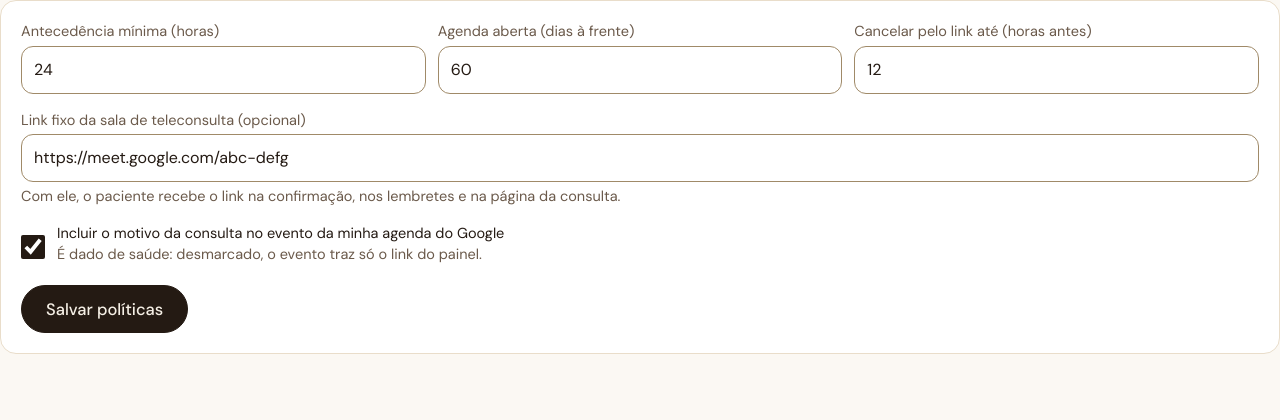
Test: <FormPoliticas> › envia os números editados e o estado atual do checkbox
The image size is (1280, 420).
Replace the text in the number field labelled "Antecedência mínima (horas)" with "48" at coordinates (223, 70), box [21,46,426,94]
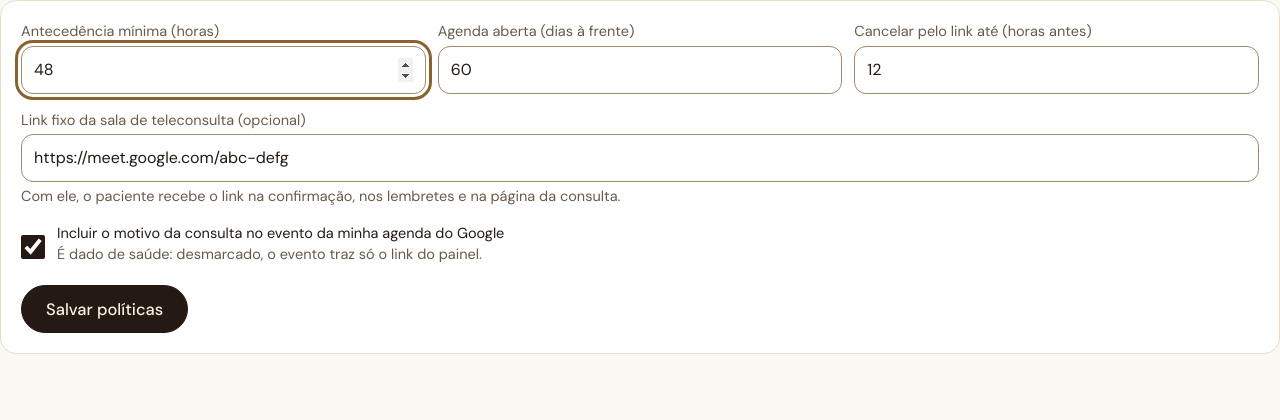
Click the checkbox labelled "Incluir o motivo" at coordinates (33, 247), box [21,225,45,269]
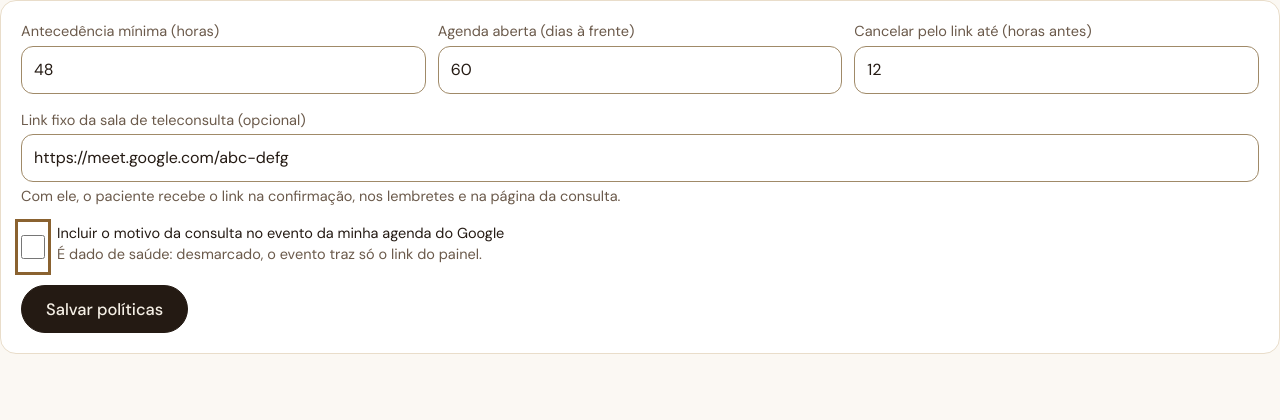
Click the button "Salvar políticas" at coordinates (105, 309), box [21,285,188,333]
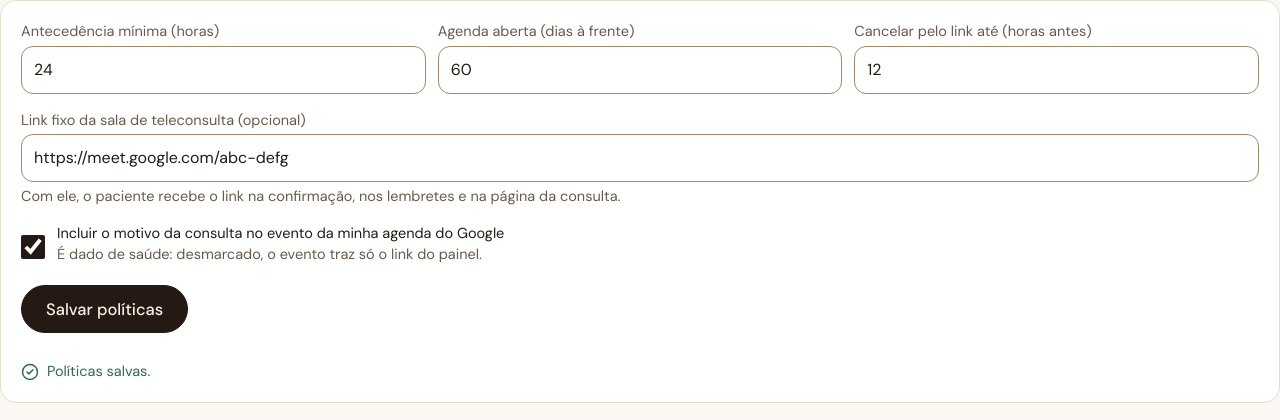
Expected: the message reads "Políticas salvas.", [47,362,150,380]
